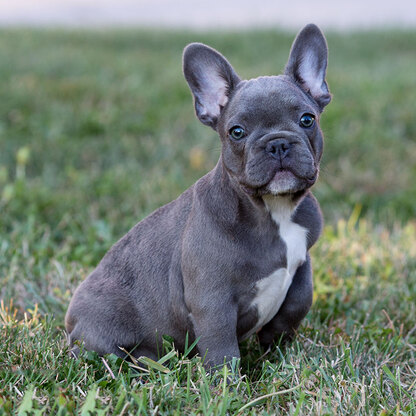bulldog: (68, 21, 338, 382)
